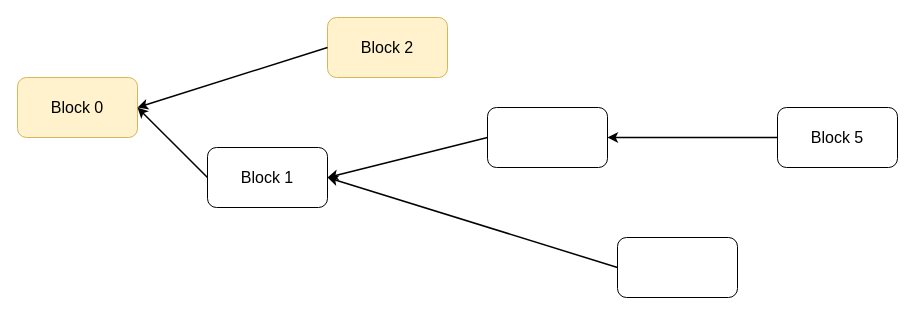
This 915x315 diagram has some shape labels left out. Each missing label, with the box of its shape:
Block 3: (486, 106, 608, 168)
Block 4: (616, 236, 738, 298)
